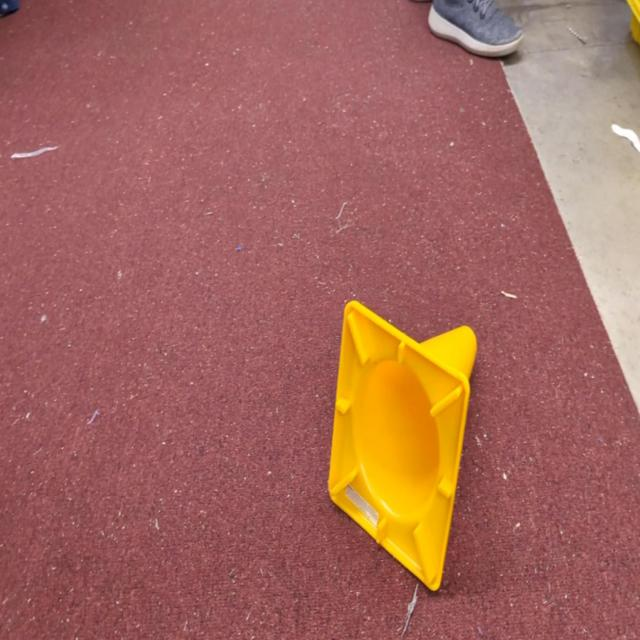frc_cone: (326, 299, 477, 591)
